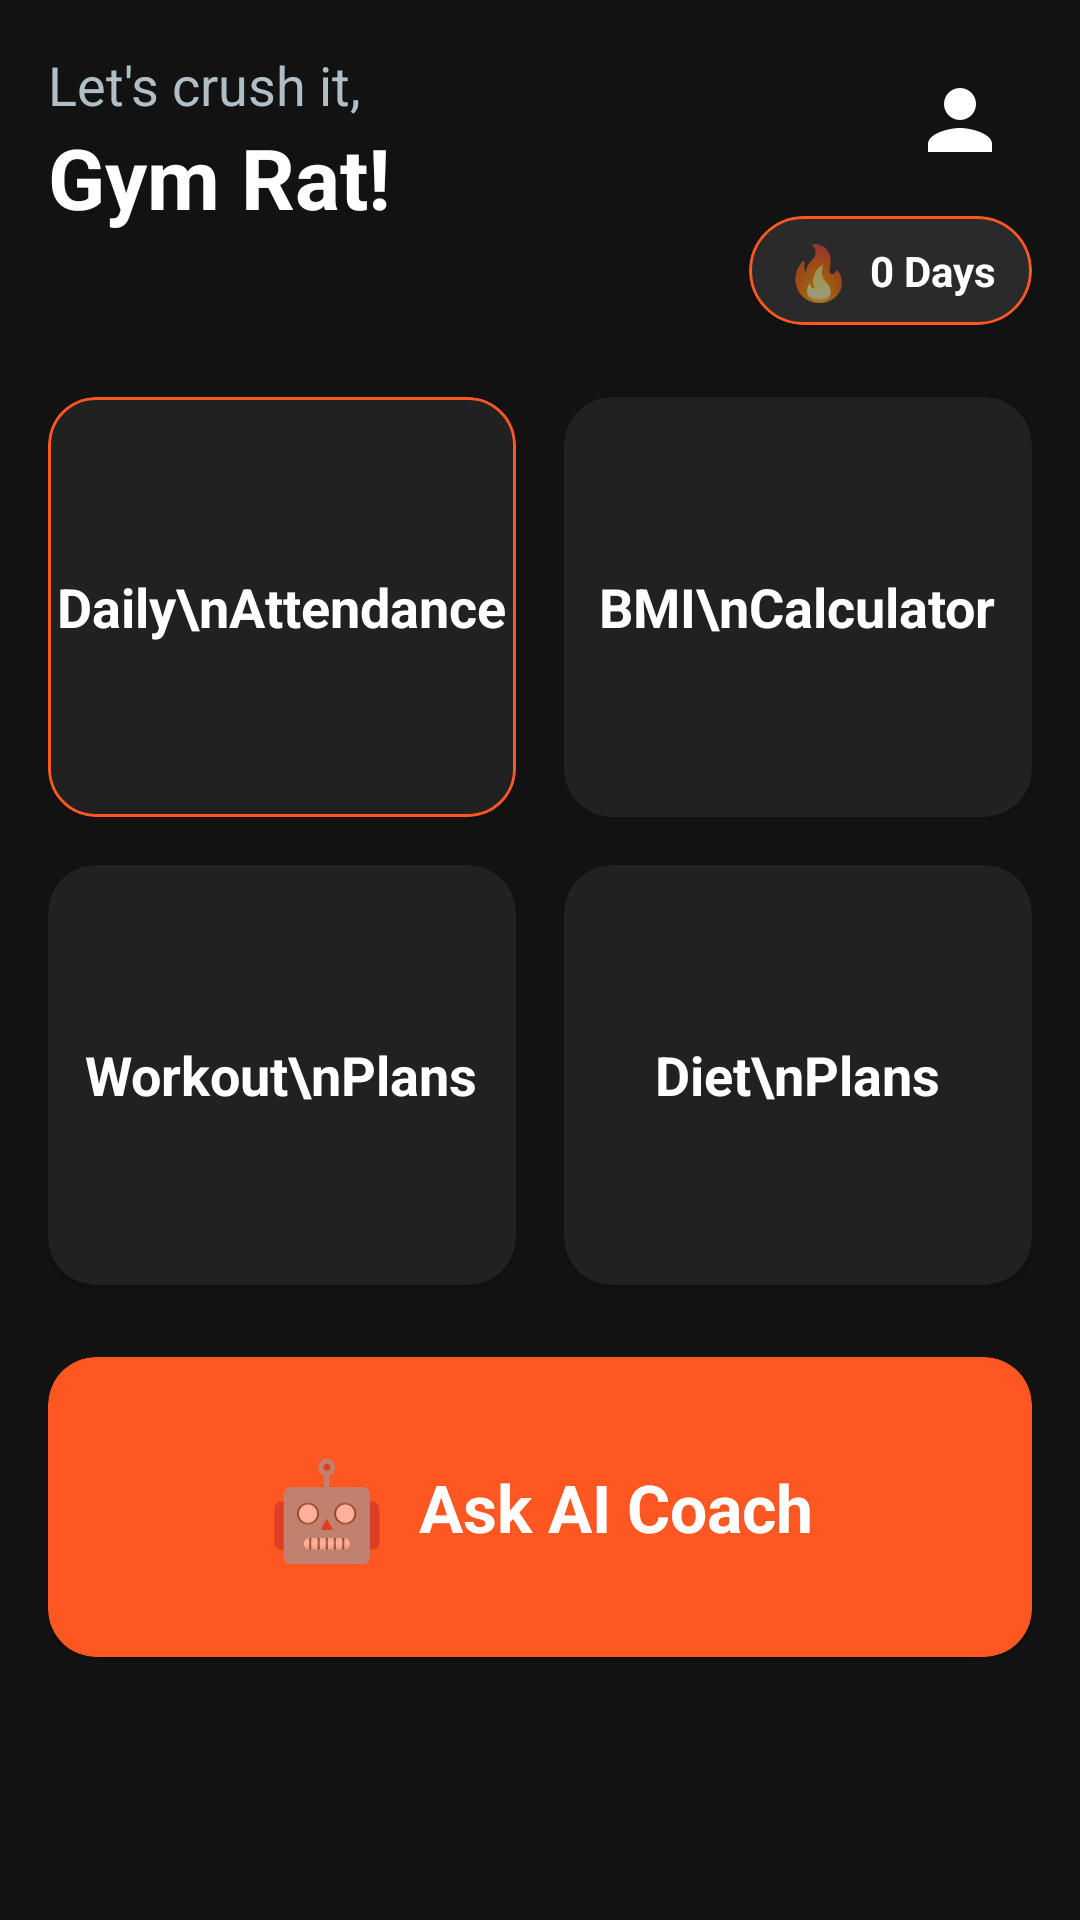

Icons on this 1080 × 1920 Android screen, each with its box as (x1, y1, x2, y2):
person: (928, 88, 992, 152)
